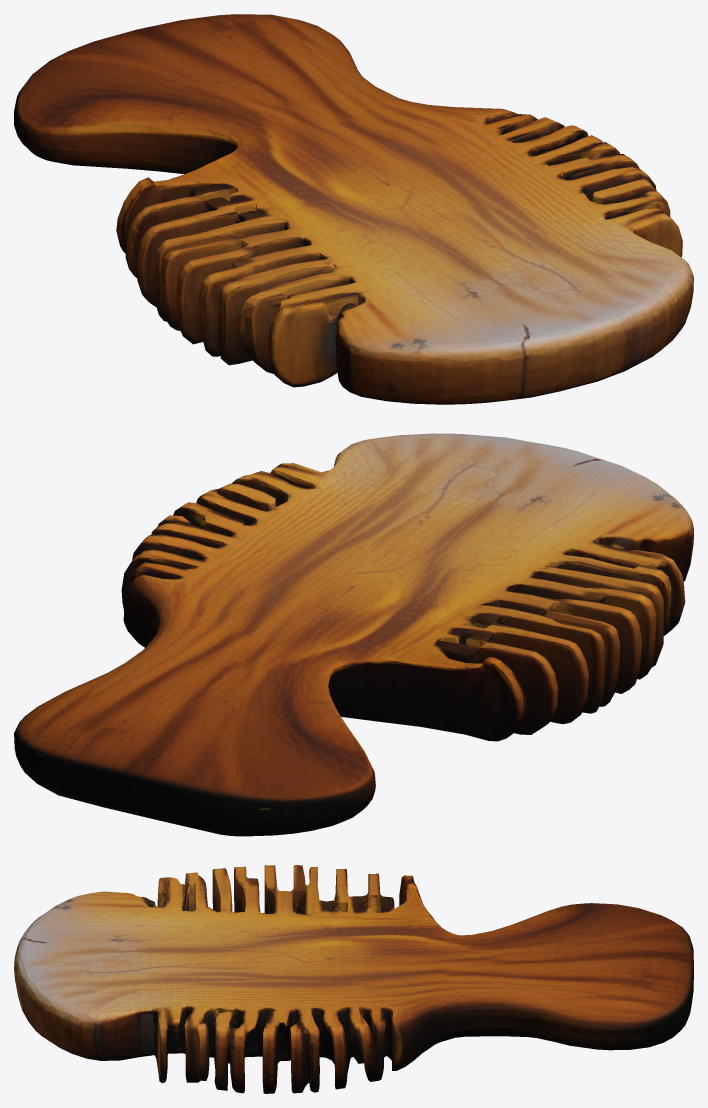
File: wooden-comb-rustic.jpeg.glb
3 views of the same model, one above another, from view 1: azimuth 30°, elevation 25°; view 2: azimuth 150°, elevation 25°; view 3: azimuth 270°, elevation 25° (orthographic). The views are drawn at different scales.
Parts seen in each view (by area): view 1: world; view 2: world; view 3: world.
Part boxes in pixels (x1,y1,x2,y2): world: (14, 14, 693, 404); world: (14, 433, 693, 836); world: (14, 865, 693, 1093).
Bounding box in the file's own units: 0.6116 × 0.1132 × 0.9973.
1 material, 1 textured.
